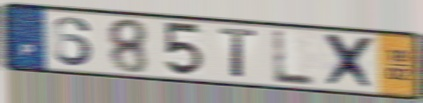5: (163, 20, 206, 78)
6: (52, 16, 94, 68)
8: (106, 17, 151, 75)
L: (271, 28, 318, 87)
T: (217, 26, 260, 81)
X: (322, 31, 379, 93)
